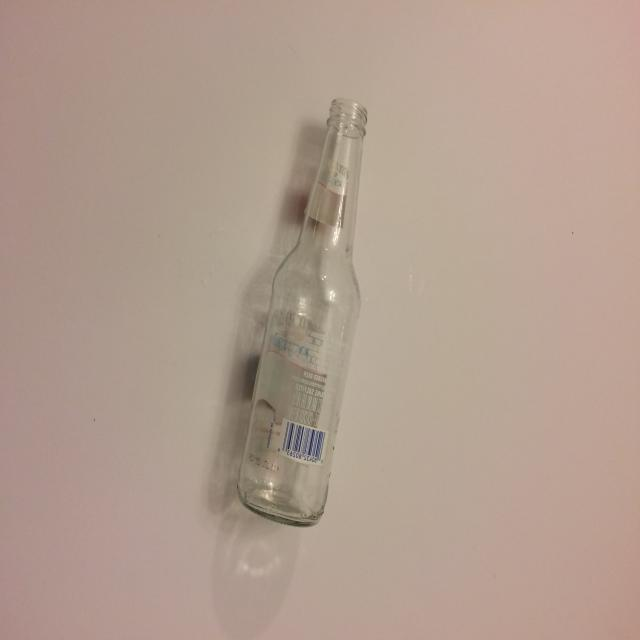glass: (236, 96, 368, 526)
